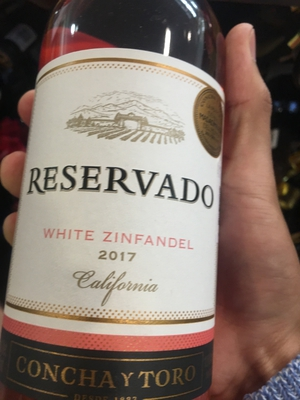reservado white zinfandel: (11, 9, 230, 399)
